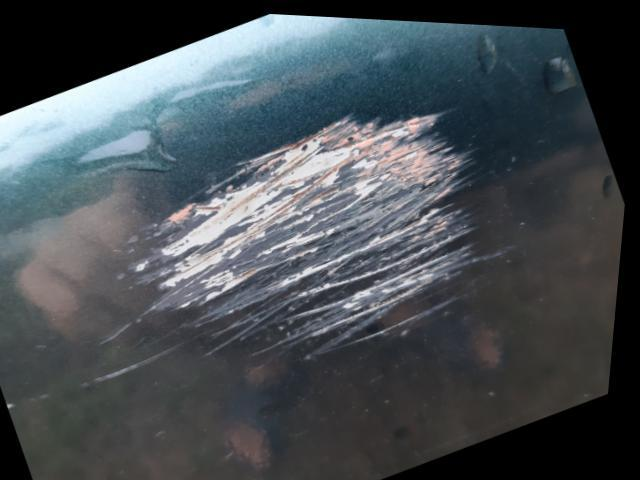scratch: (9, 103, 511, 410)
